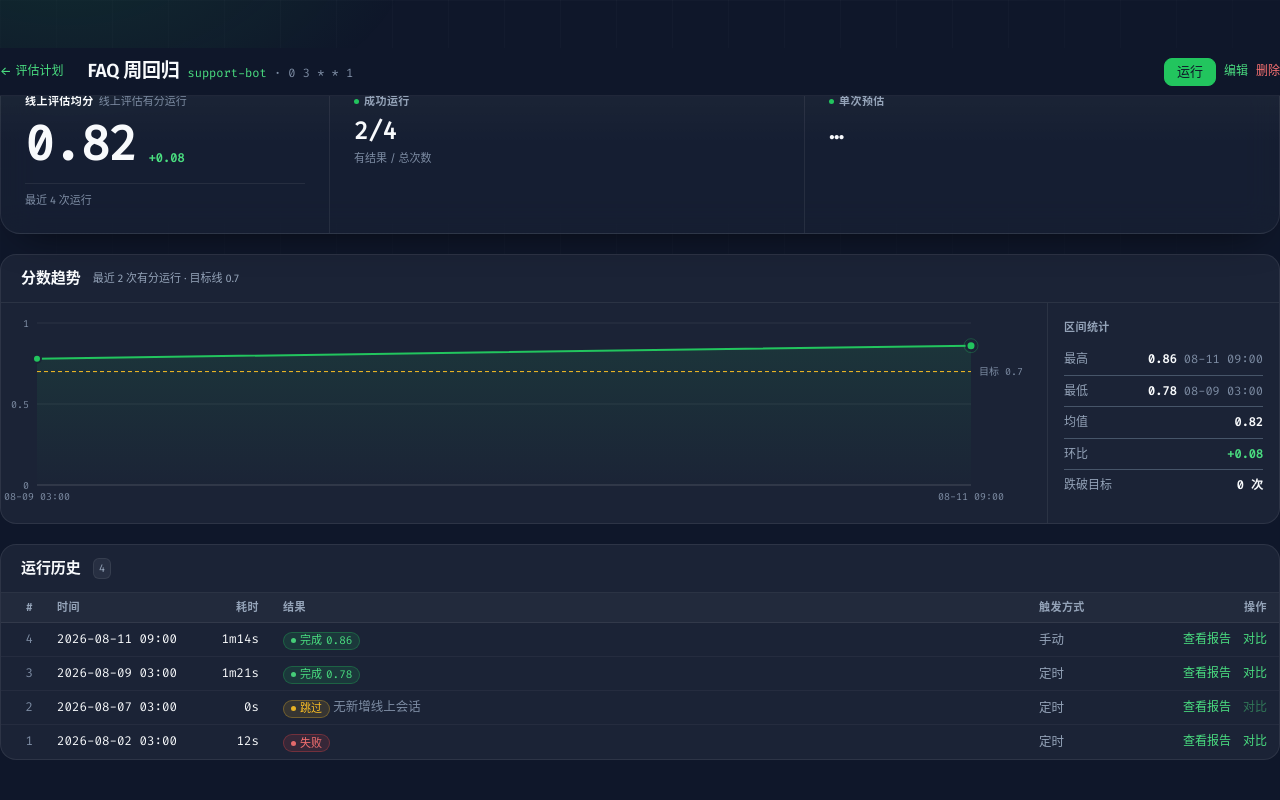
Scenario: 发起运行二次确认 › 确认后才真跑：发 run_plan + 出进度卡
This screenshot has width=1280, height=800.
Expected: the text "FAQ 周回归" is shown, [88,59,180,82]
Click the button with test id "plan-run": (1190, 72) [1164,58,1216,86]
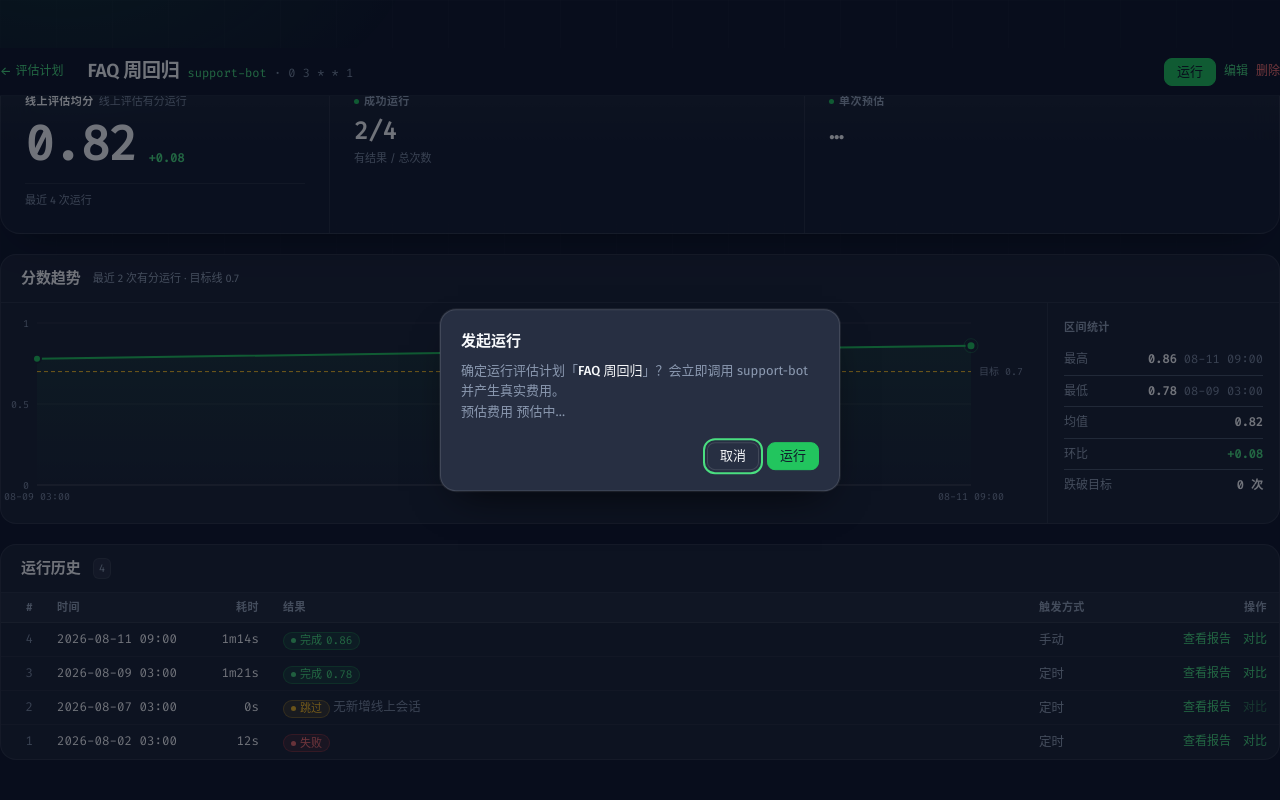
Click the button with test id "confirm-card-ok": (793, 456) [767,442,819,470]
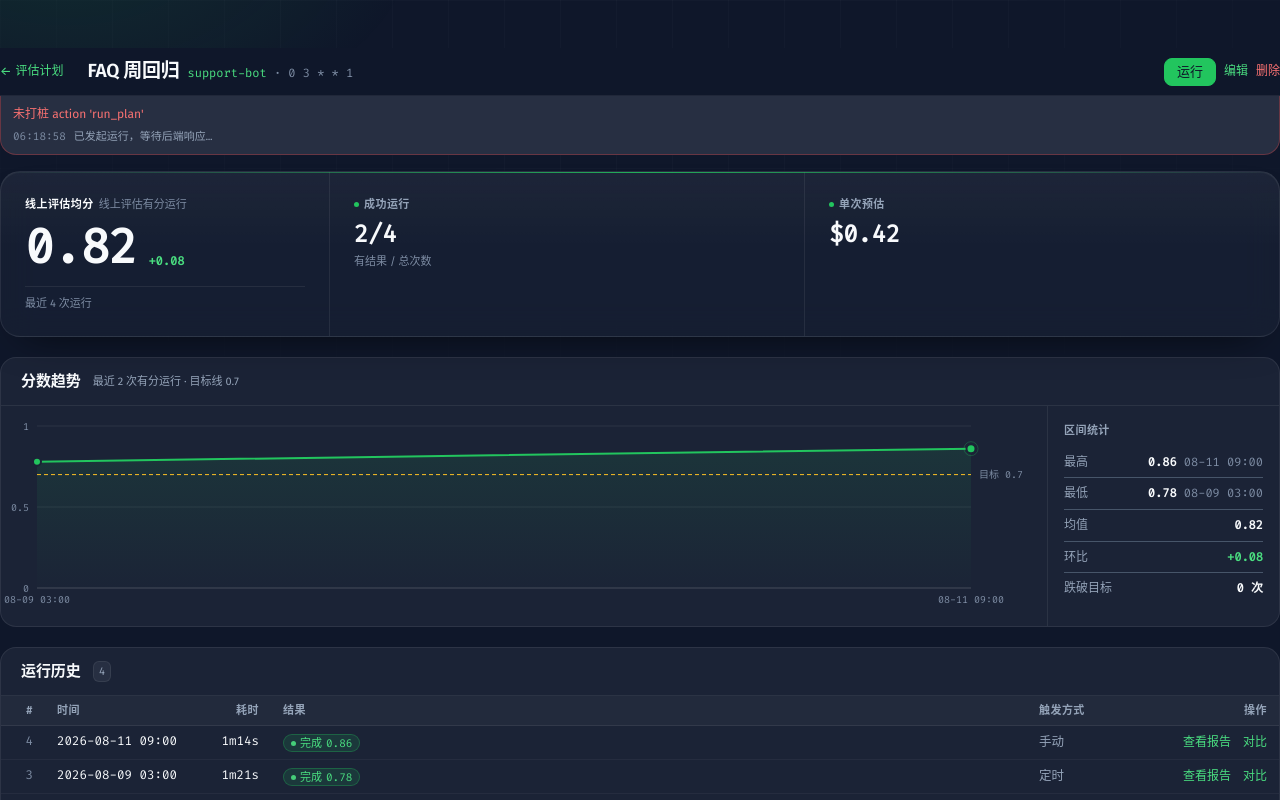
Now the message "运行失败 · 用时 00:00 关闭 未打桩 action 'run_plan' 06:18:58 已发起运行，等待后端响应…" is shown, box [0,68,1279,155]
